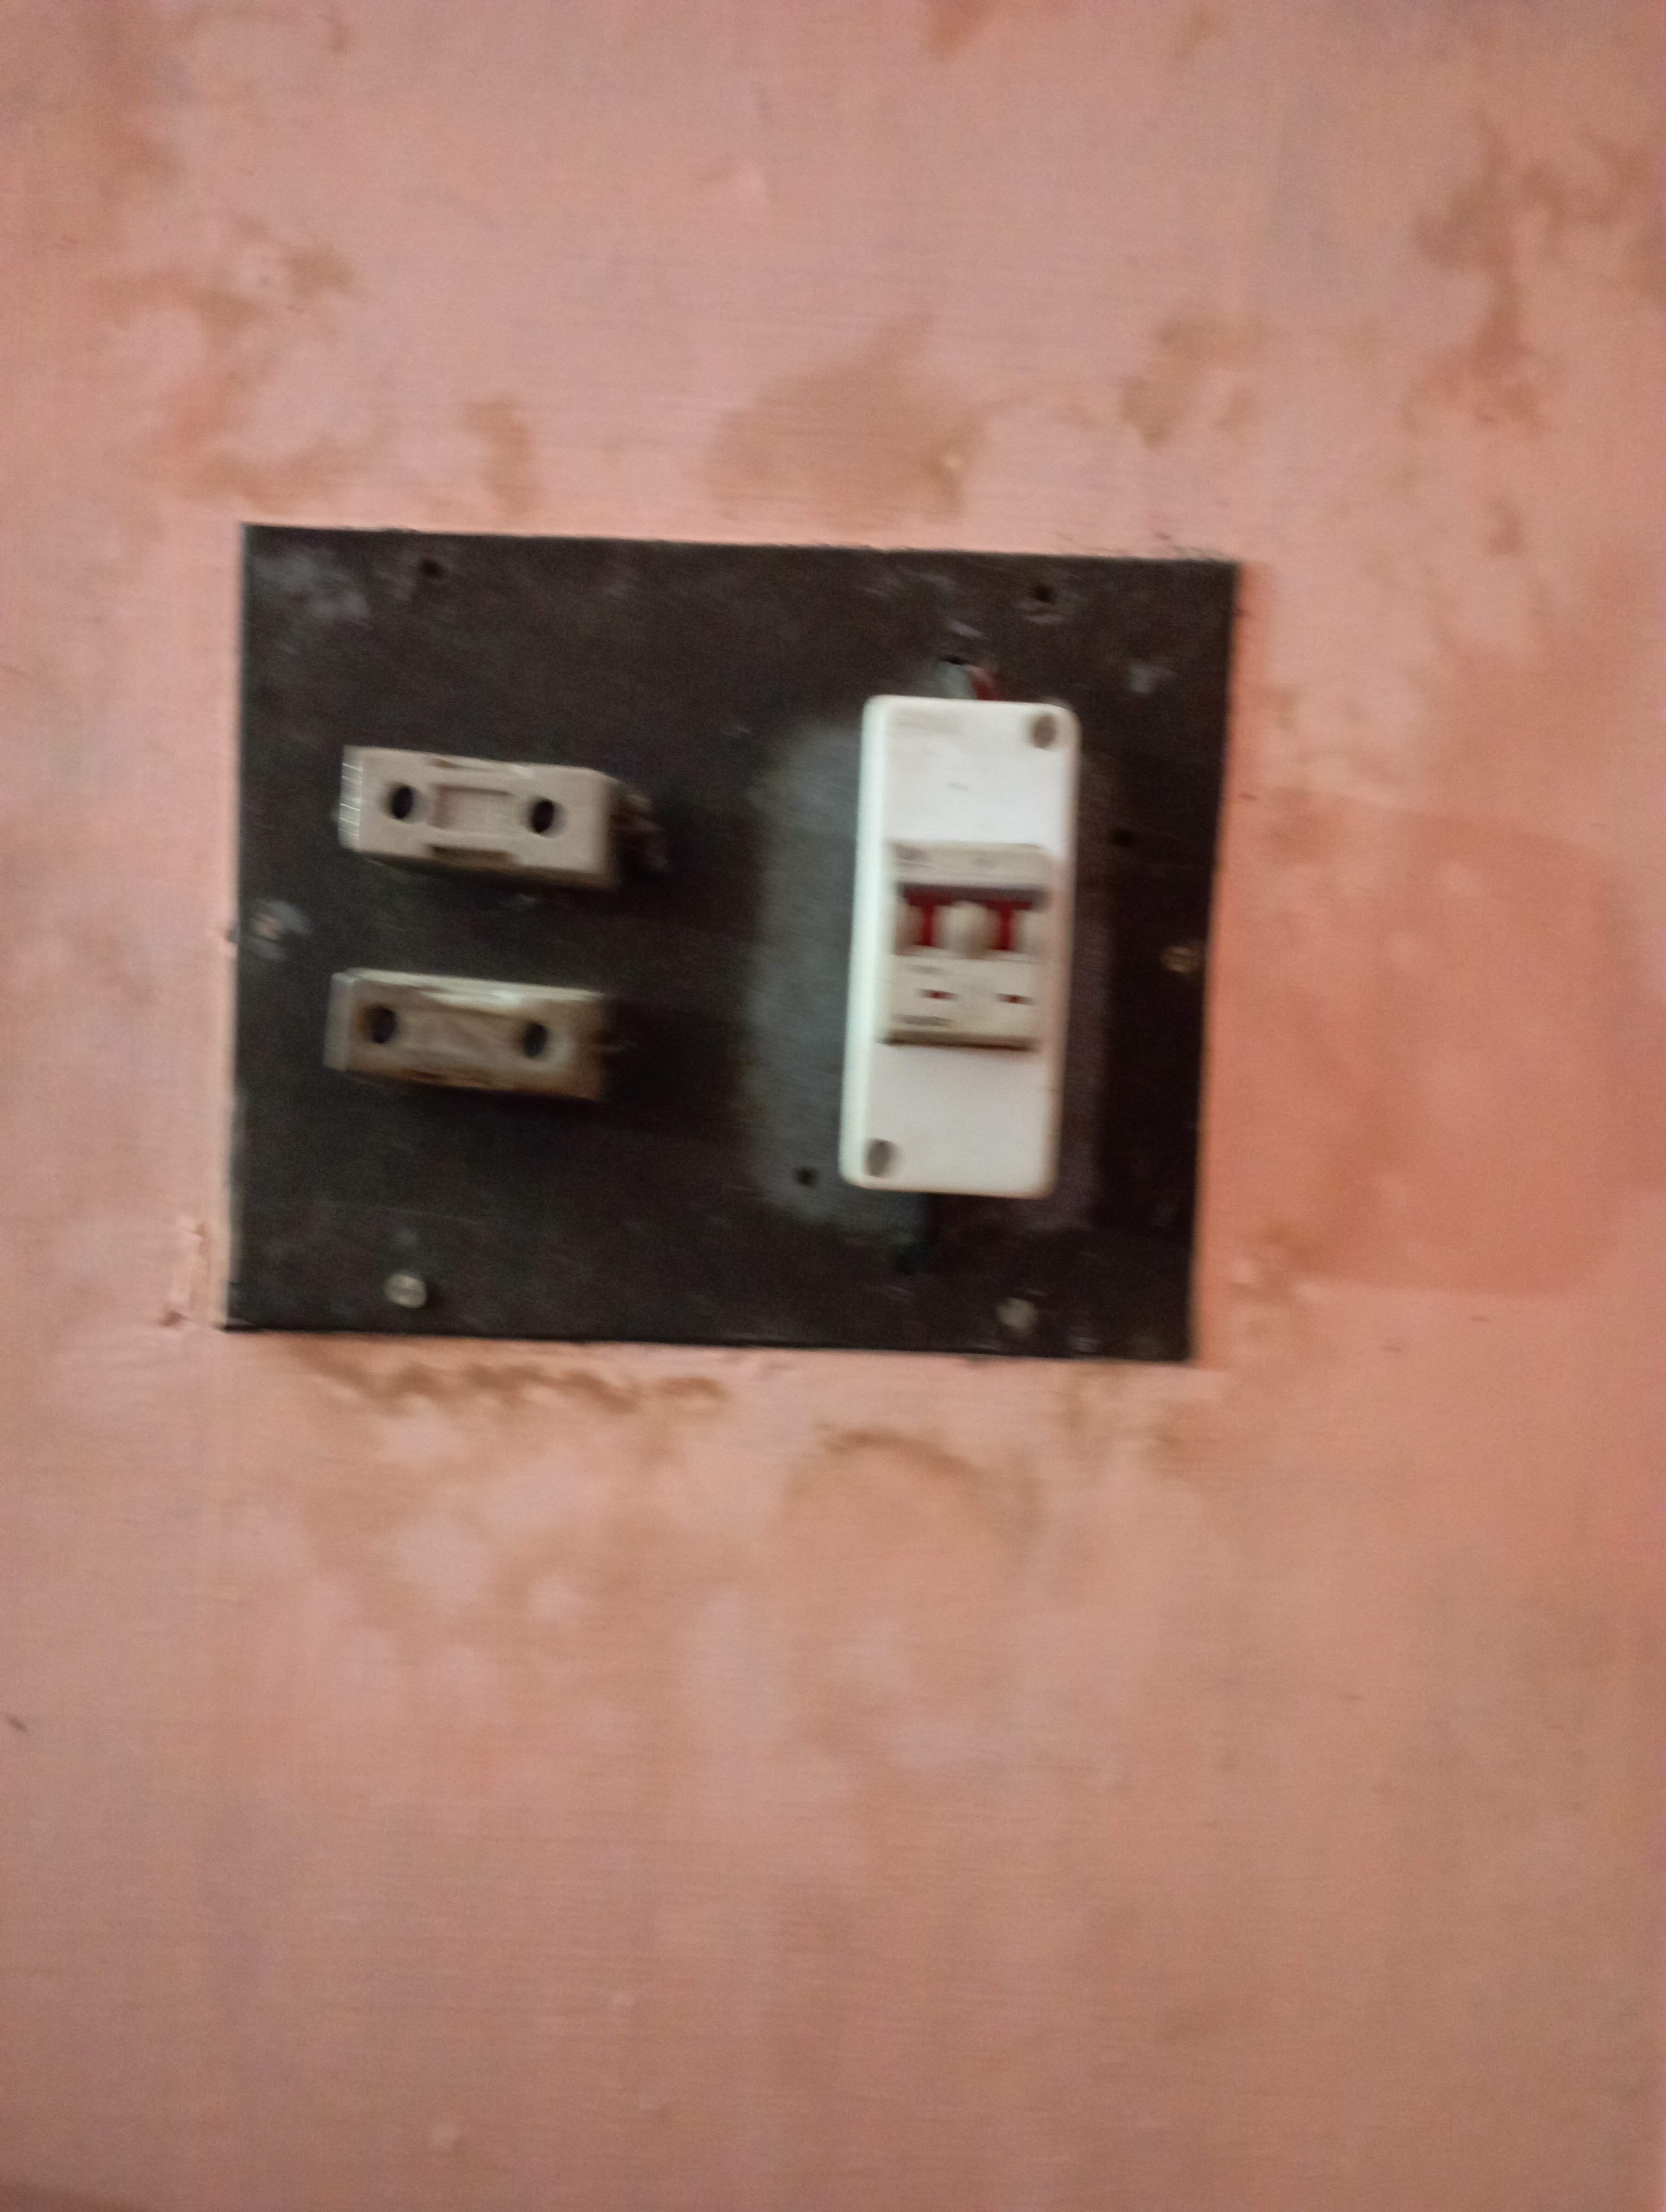ciruit_breaker: (836, 678, 1080, 1235)
fuse: (322, 736, 648, 904), (336, 943, 604, 1119)
